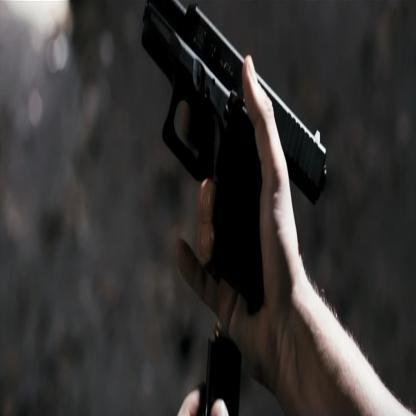gun: (126, 0, 354, 302)
